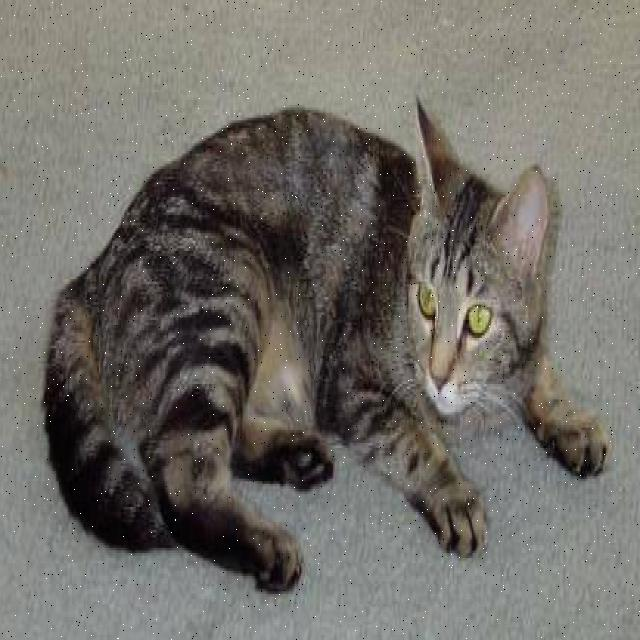Cat: (380, 112, 567, 446)
